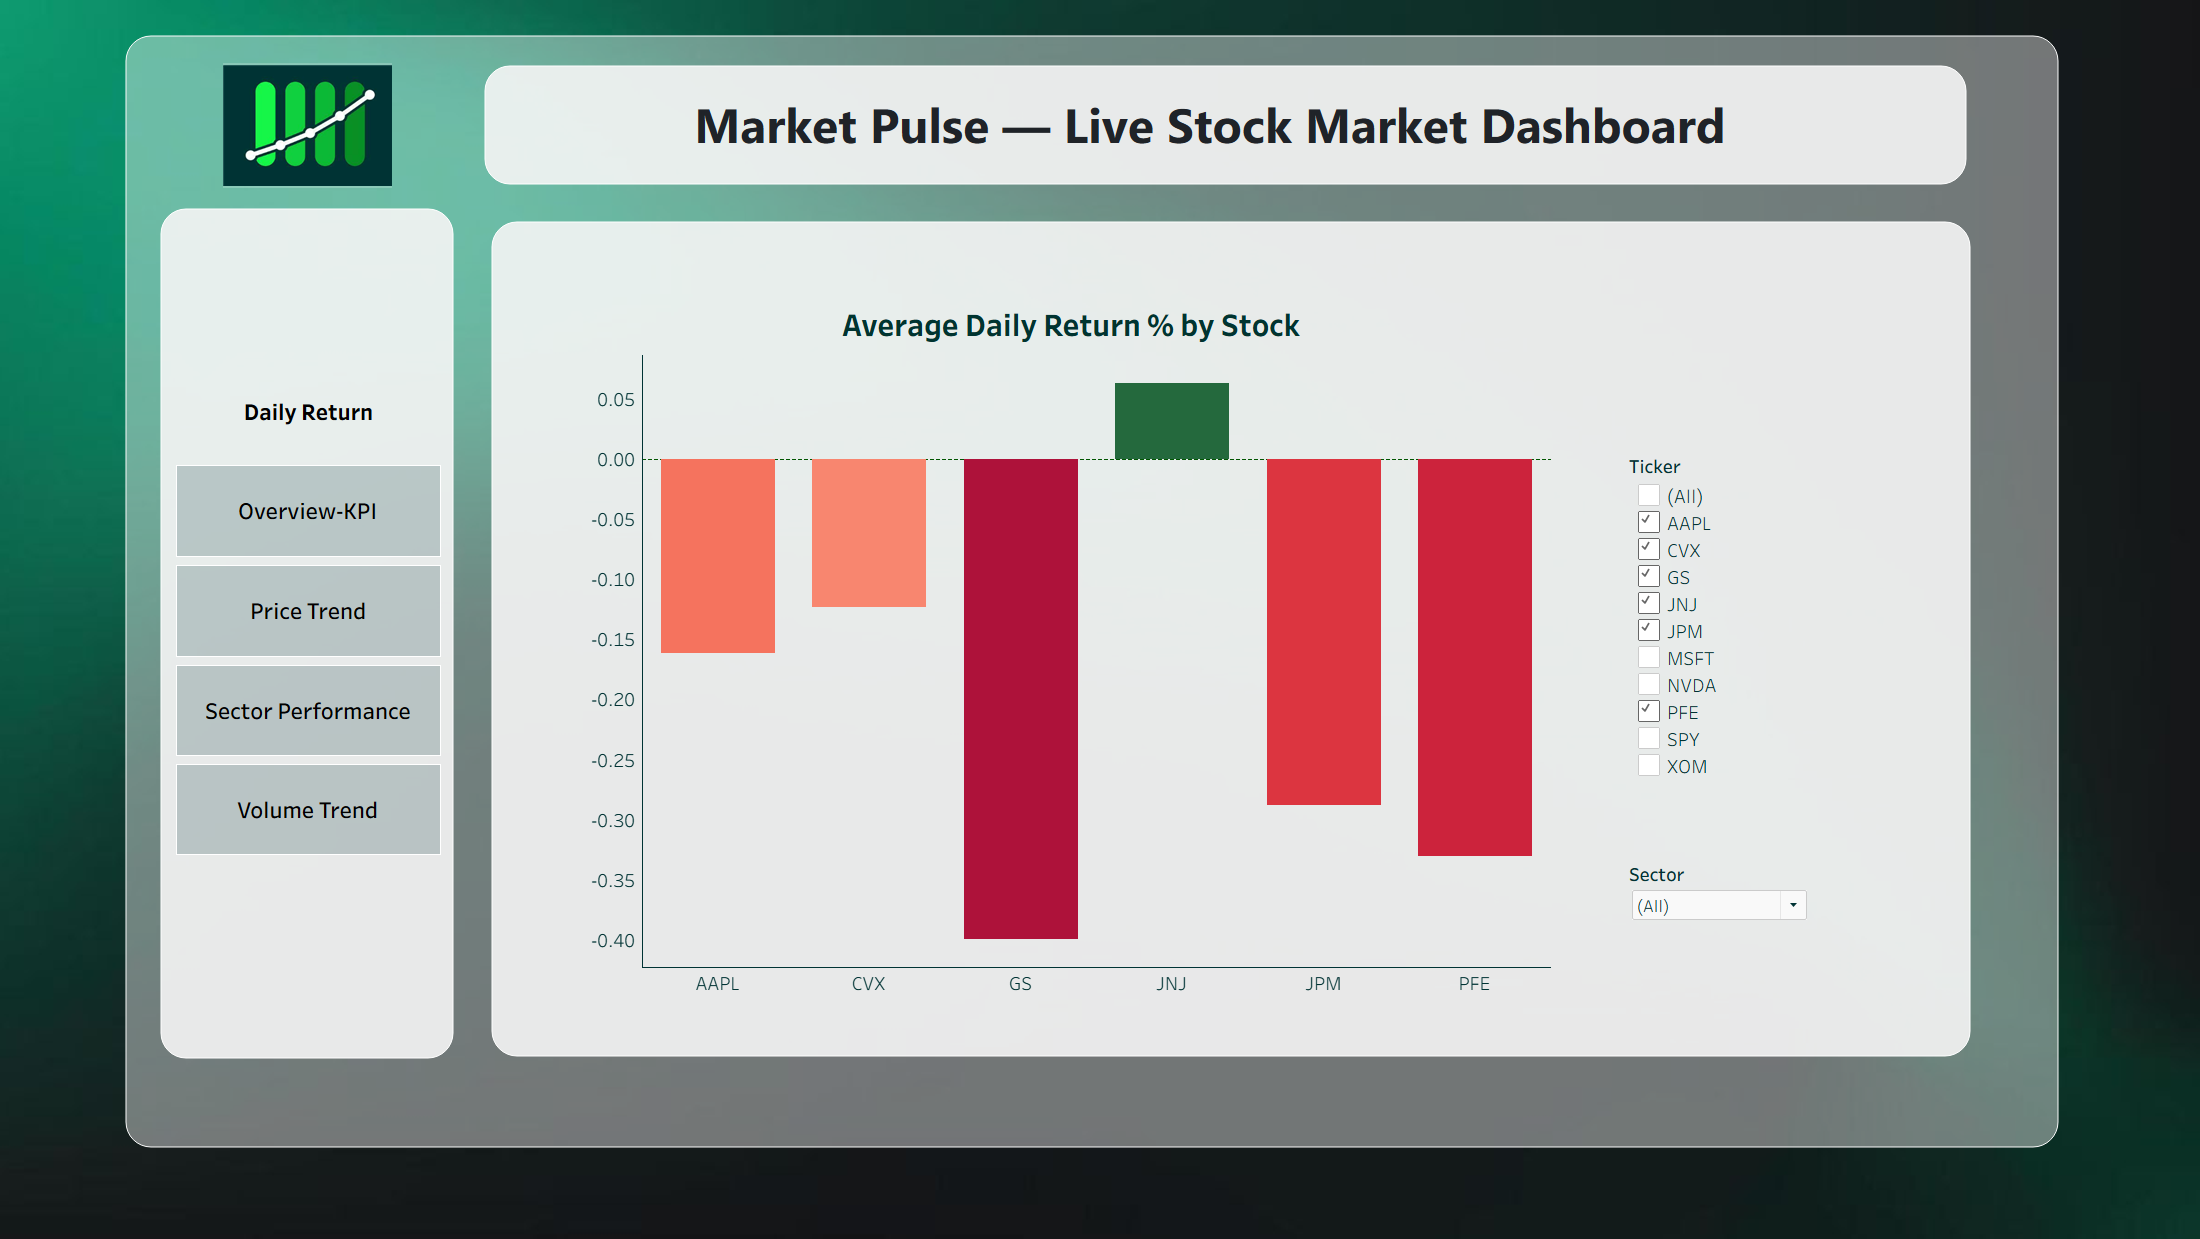

The page's visual inventory and layout, read from the dashboard file:
{"tool":"tableau","page":{"name":"Daily Return Dashboard ","canvas":[1000,1000],"units":"permille","ordinal":0},"visuals":[{"type":"image","param":"C:/Users/samor/OneDrive/Desktop/4067d5a5f7cf7e6f15b997b1403af699.jpg","box":[0,0,861.2,863.4]},{"type":"worksheet","title":"OTHER-D","mark":"Automatic","box":[15,18.2,820.5,827]},{"type":"image","param":"C:/Users/samor/AppData/Local/Temp/TableauTemp/0qbzxmv0kf742318mn2140u93hgg/Sheet","box":[87.5,56.1,69,89.3]},{"type":"text","box":[209.1,71.9,531.4,55.3]},{"type":"worksheet","title":"Daily Returns","mark":"Bar","rows":["Calculation_1926660308652032"],"cols":["Ticker"],"box":[233,216.4,374.9,466]},{"type":"text","box":[69.1,258.2,106.6,66.9]},{"type":"filter","title":"Daily Returns","param":"[federated.1v5bl0h08547lg1gbtx6f1lob0uy].[none:Ticker:nk]","box":[629.5,277.2,70.7,259.9]},{"type":"dashboard-object","box":[69.1,325.1,106.6,66.9]},{"type":"filter","title":"Daily Returns","param":"[federated.1v5bl0h08547lg1gbtx6f1lob0uy].[none:Sector:nk]","box":[689.2,338.1,70.7,153.2]},{"type":"dashboard-object","box":[69.1,392,106.6,66.9]},{"type":"dashboard-object","box":[69.1,458.9,106.6,66.2]},{"type":"dashboard-object","box":[69.1,525.1,106.6,66.2]}]}

Visuals, with their boxes on the dashboard's canvas, which has no fixed pixel size, in thousandths of its width and height (x1, y1, x2, y2). These are canvas units, not pixel positions in the 2200x1239 screenshot, which may show the page scaled, cropped or inside an application window:
image: pyautogui.locateOnScreen(0, 0, 861, 863)
"OTHER-D" worksheet: pyautogui.locateOnScreen(15, 18, 836, 845)
image: pyautogui.locateOnScreen(88, 56, 156, 145)
text: pyautogui.locateOnScreen(209, 72, 740, 127)
"Daily Returns" worksheet (Bar marks): pyautogui.locateOnScreen(233, 216, 608, 682)
text: pyautogui.locateOnScreen(69, 258, 176, 325)
"Daily Returns" filter: pyautogui.locateOnScreen(630, 277, 700, 537)
dashboard-object: pyautogui.locateOnScreen(69, 325, 176, 392)
"Daily Returns" filter: pyautogui.locateOnScreen(689, 338, 760, 491)
dashboard-object: pyautogui.locateOnScreen(69, 392, 176, 459)
dashboard-object: pyautogui.locateOnScreen(69, 459, 176, 525)
dashboard-object: pyautogui.locateOnScreen(69, 525, 176, 591)
